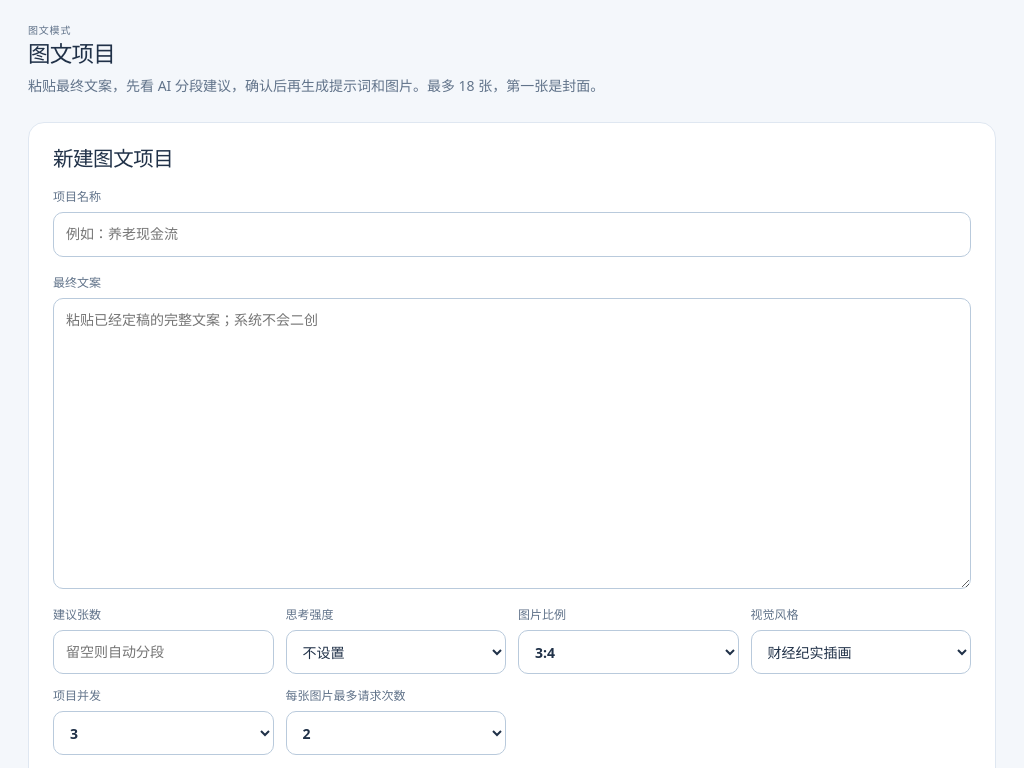
ImageModeWorkbench › 499 without code shows upstream cancellation detail
The width and height of the screenshot is (1024, 768).
Step 1. Type "X" into the field → {"x": 512, "y": 235}, box [53,212,971,257]
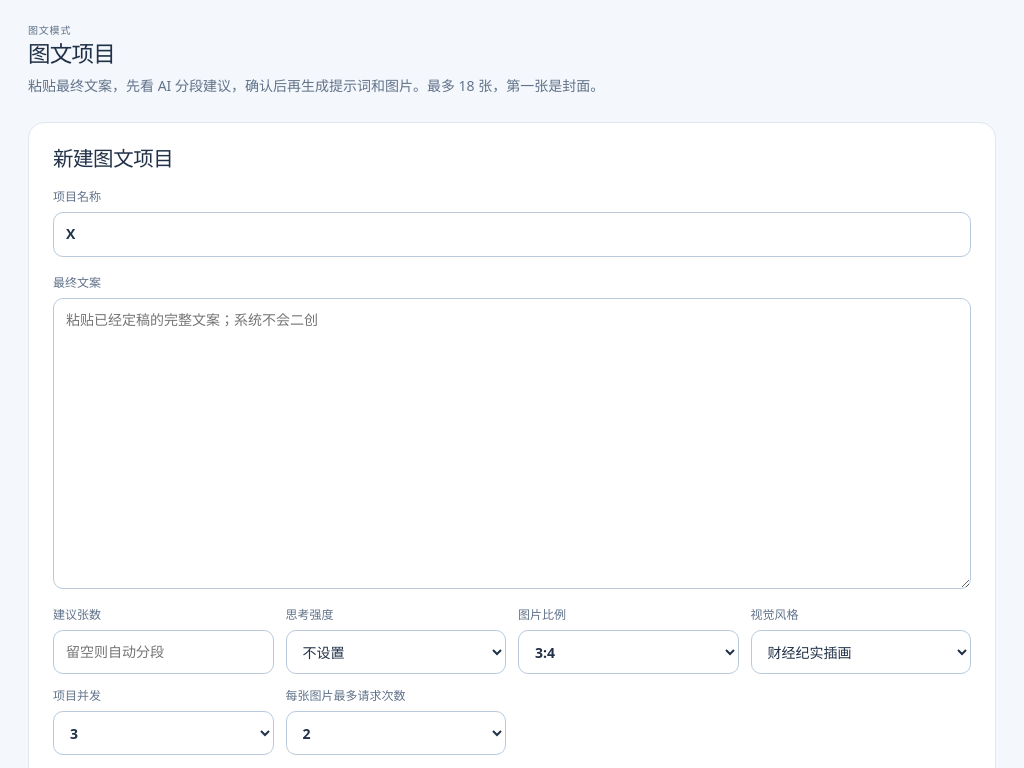
Step 2. Type "Y" into the text box → {"x": 512, "y": 443}, box [53,298,971,589]
(page scrolled)
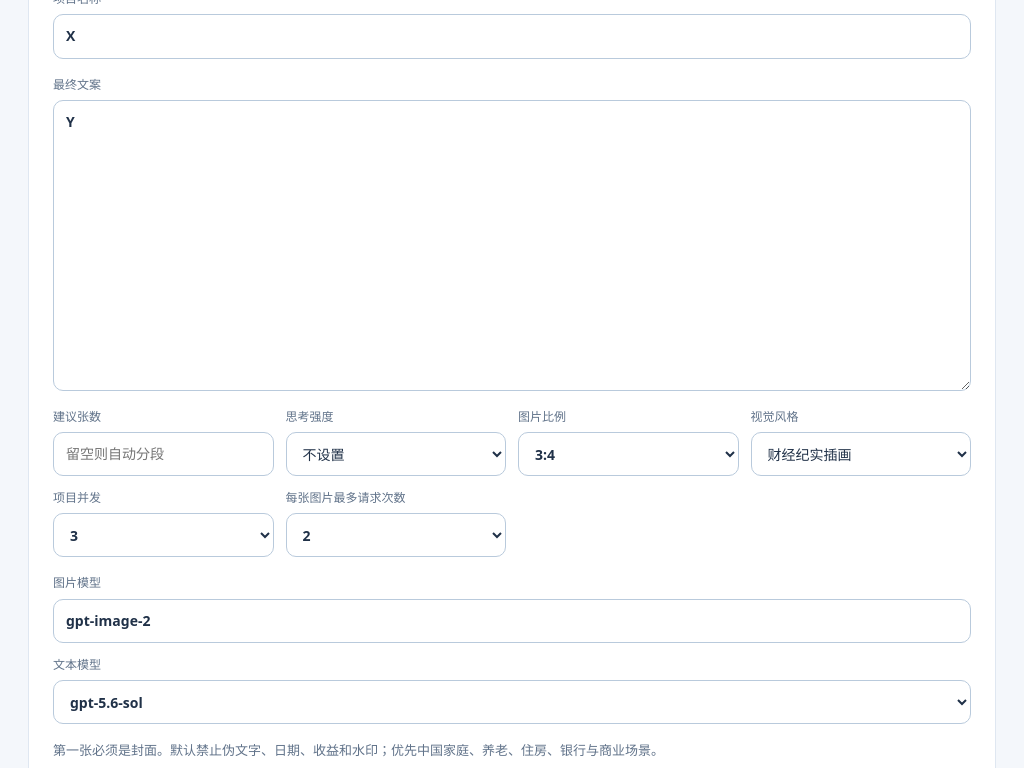
Step 3. Submit the form
(page scrolled)
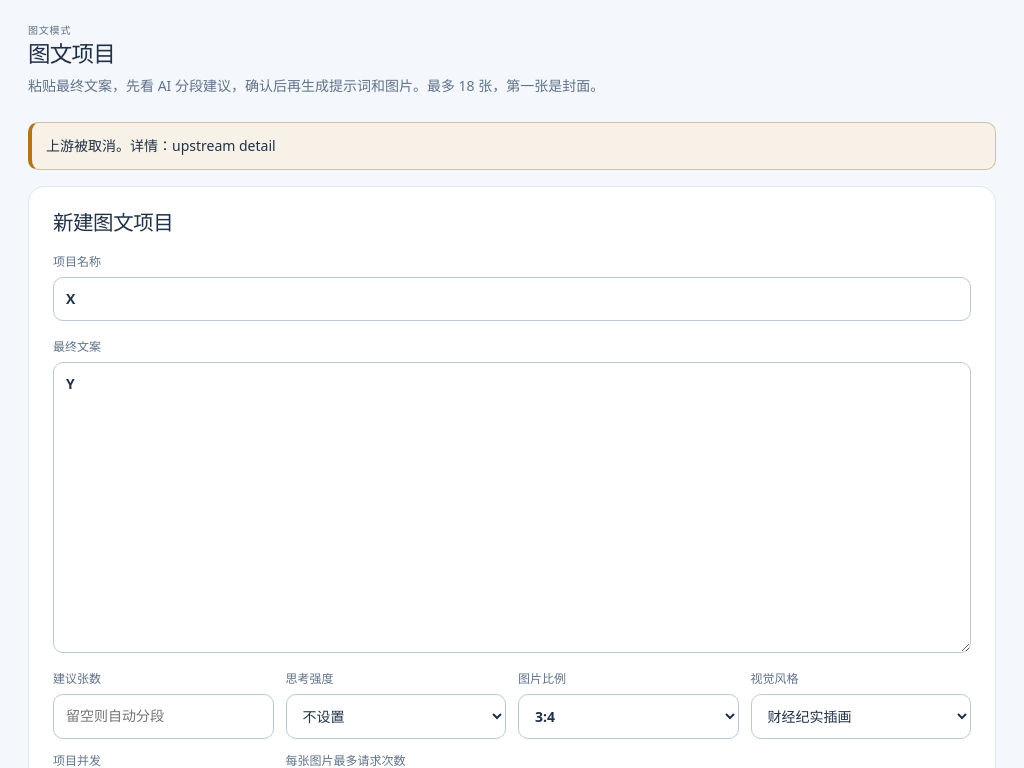
Now the text "upstream detail" is shown, box [46,136,276,155]
